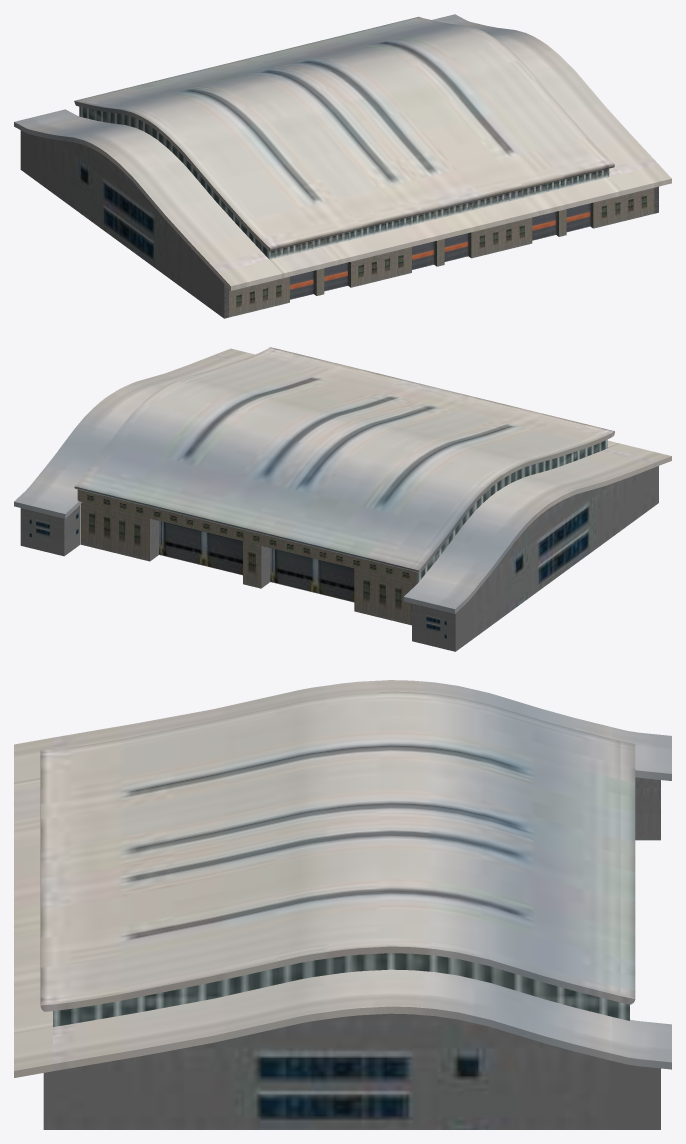
The picture shows the model from 3 angles, top to bottom: view 1: azimuth 30°, elevation 25°; view 2: azimuth 150°, elevation 25°; view 3: azimuth 270°, elevation 25°; orthographic projection. The views are drawn at different scales.
Visible parts, largest first — view 1: DN109_NhaKho2.001; view 2: DN109_NhaKho2.001; view 3: DN109_NhaKho2.001.
Part boxes in pixels (x1,y1,x2,y2): DN109_NhaKho2.001: [14, 14, 671, 318]; DN109_NhaKho2.001: [14, 347, 671, 651]; DN109_NhaKho2.001: [14, 680, 671, 1129].
Bounding box in the file's own units: 51.44 × 11.01 × 43.81.
Materials: 1 (1 with a texture image).
